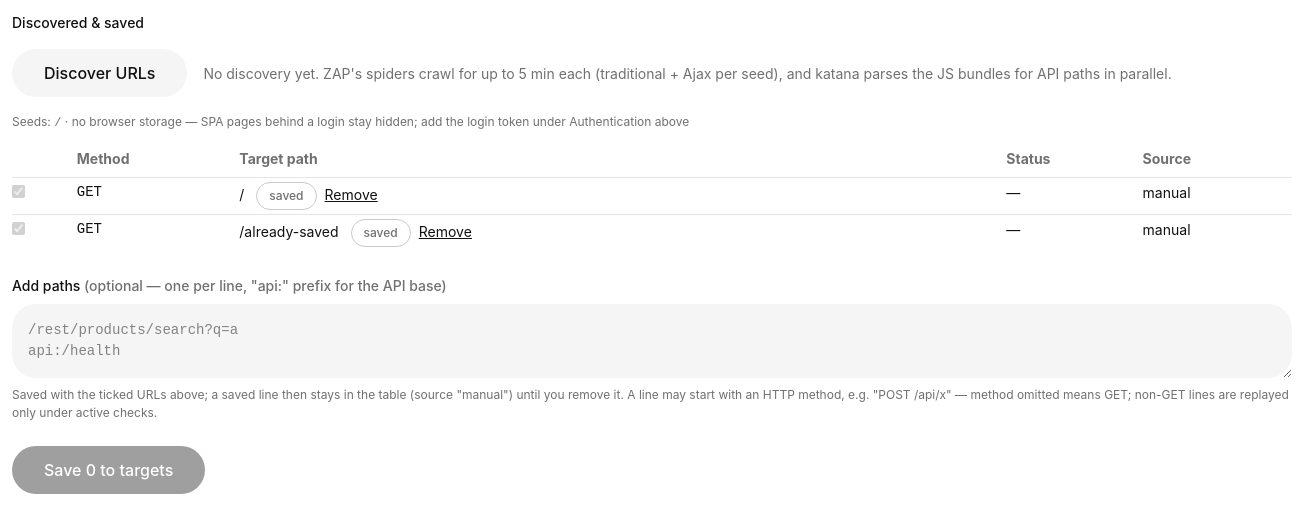
it: DiscoveryPanel › starts a discovery and disables the button while it is running
The width and height of the screenshot is (1304, 511).
Click the button with test id "start-discovery" at (100, 73), box [12,49,187,97]
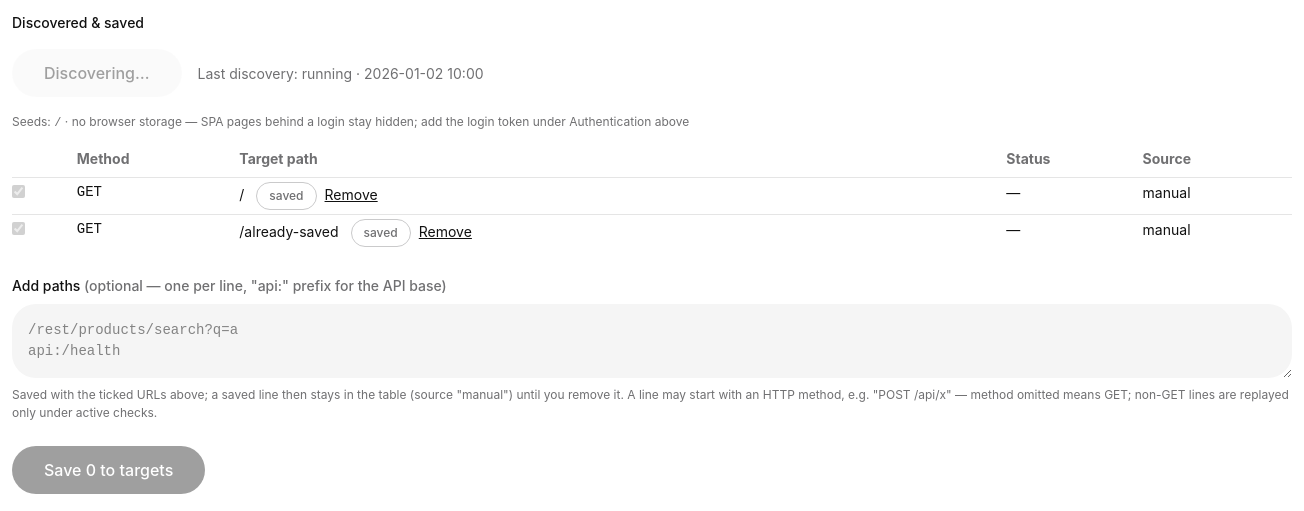
Check: the button with test id "start-discovery" is disabled, box [12,49,182,97]
Check: the button with test id "start-discovery" shows "Discovering", box [12,49,182,97]
Check: the text with test id "discovery-status" shows "running", box [198,64,484,82]
